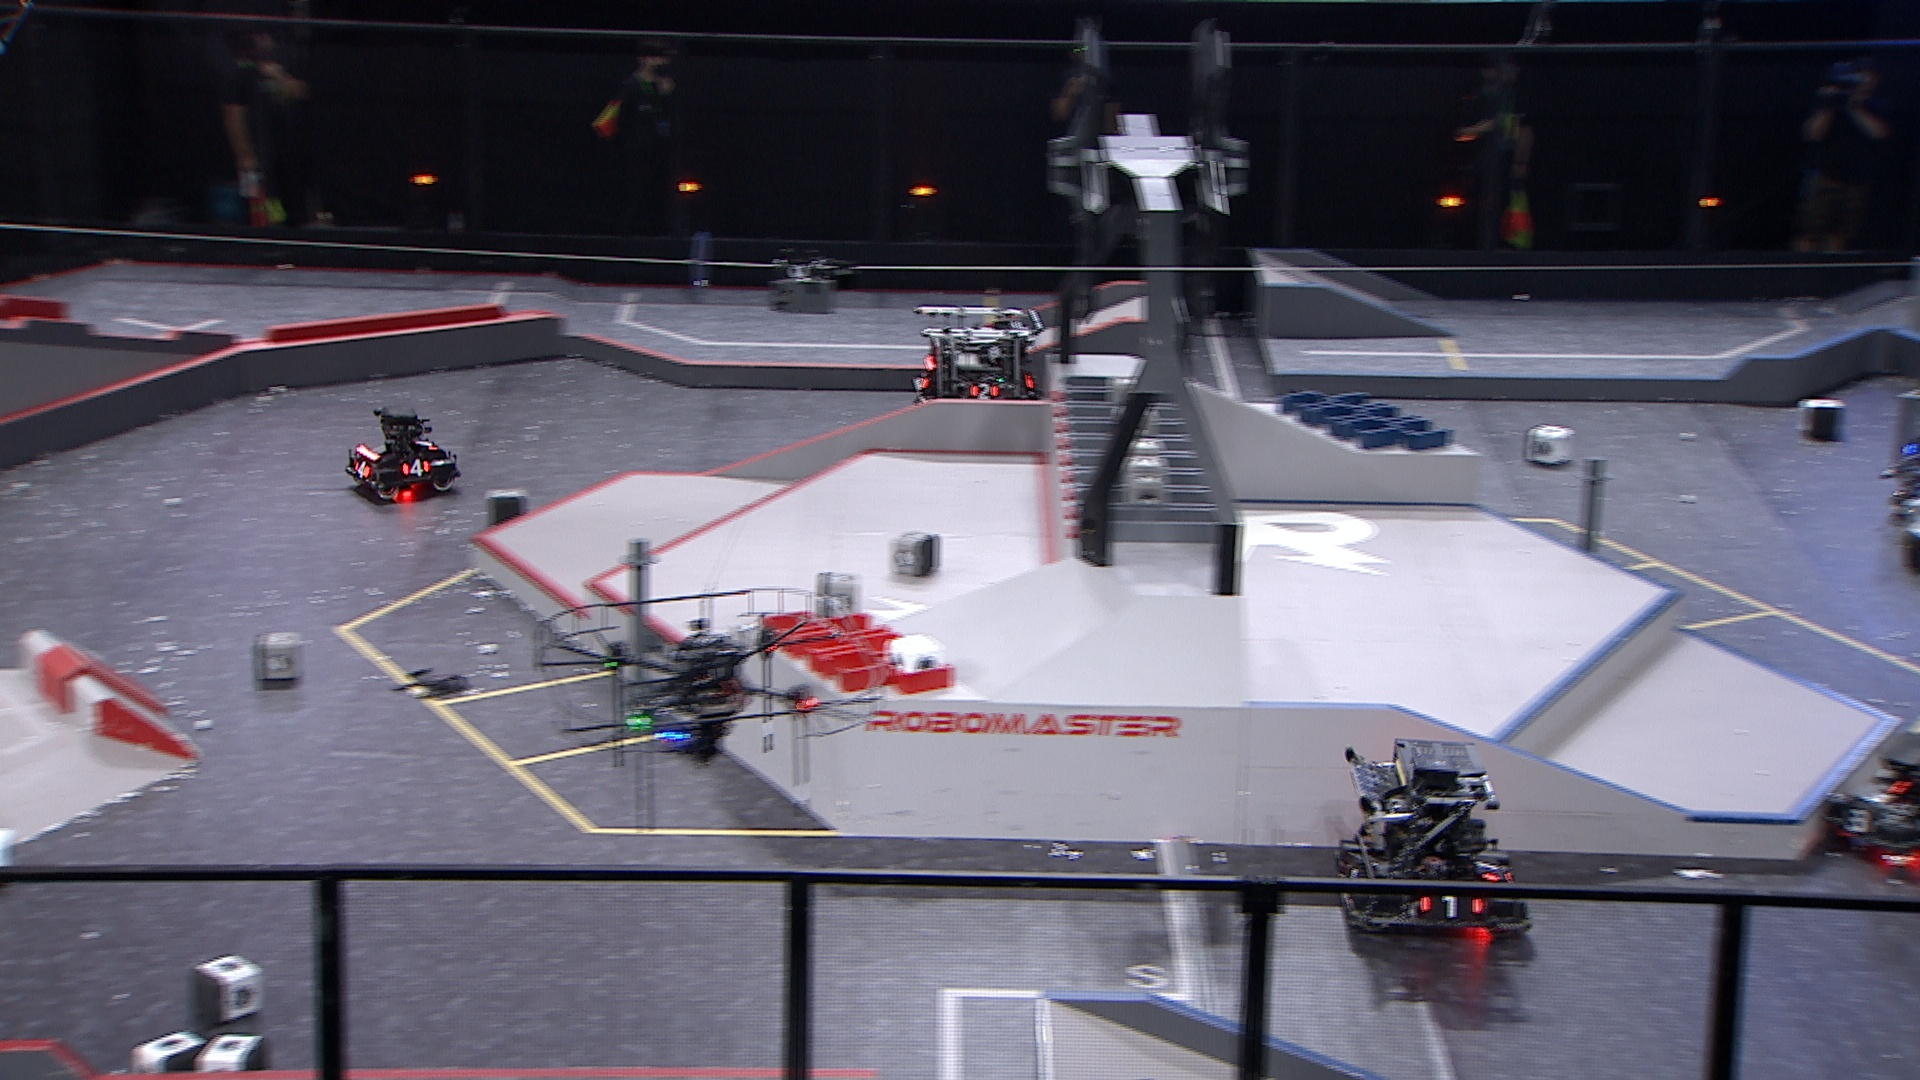armor: (1416, 894, 1484, 920), (1472, 856, 1505, 887), (1842, 808, 1876, 835), (1865, 787, 1902, 808), (398, 458, 430, 479), (969, 380, 1001, 400), (413, 436, 436, 455), (352, 460, 372, 480), (916, 368, 932, 392)
car: (1332, 737, 1534, 944), (909, 305, 1048, 429), (1817, 745, 1920, 878), (342, 405, 465, 502), (1880, 429, 1920, 566)
